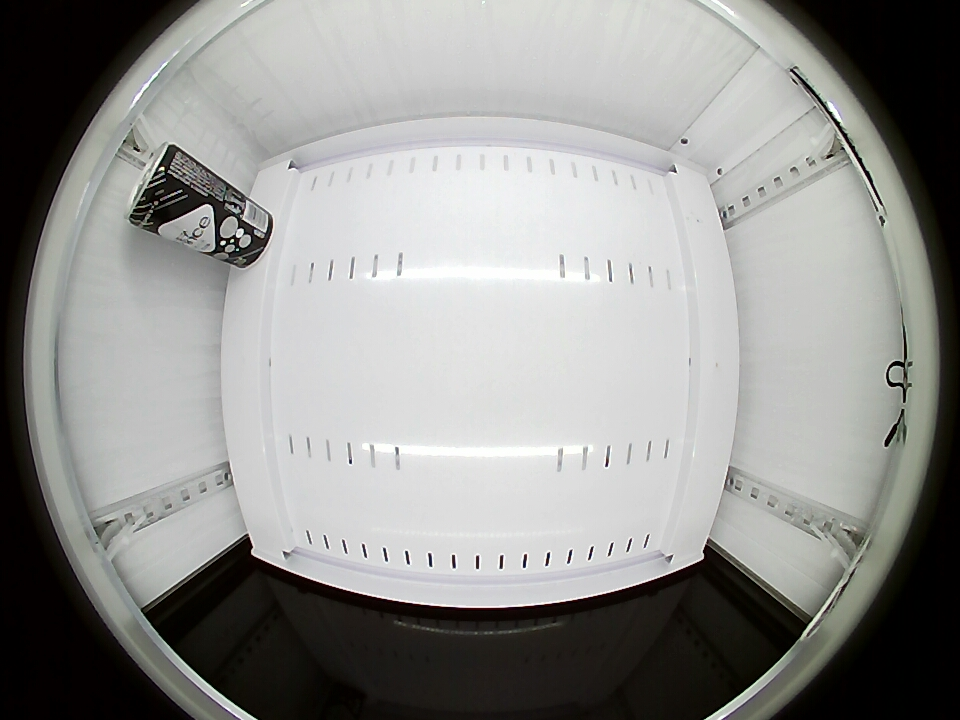qingdaowangzi-1: (126, 144, 192, 232)
